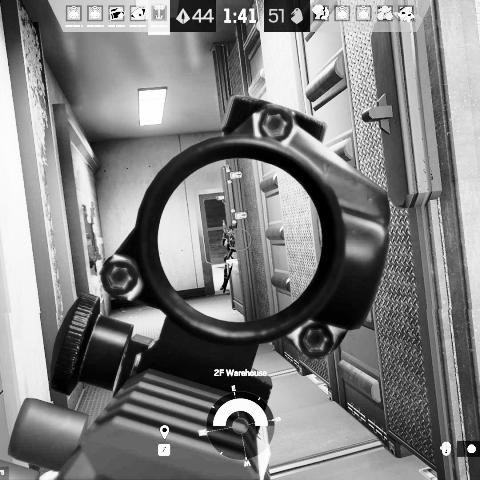Character: (220, 219, 238, 293)
Head: (223, 220, 228, 231)
